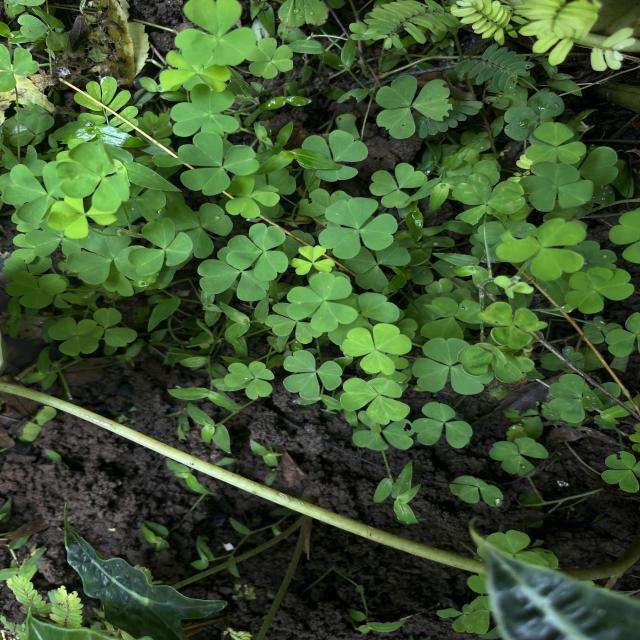Oxalis corniculata: (494, 218, 586, 282), (174, 0, 257, 68), (177, 130, 260, 197), (374, 74, 454, 140), (317, 197, 398, 260), (412, 337, 495, 396), (286, 272, 358, 333), (127, 216, 193, 276), (170, 82, 240, 138), (341, 322, 412, 376), (519, 162, 594, 213), (226, 223, 288, 281), (300, 130, 369, 182), (340, 377, 410, 425), (564, 266, 634, 314), (476, 301, 540, 350), (410, 402, 474, 449), (282, 350, 342, 400), (524, 121, 586, 166), (368, 163, 428, 209), (488, 434, 549, 478), (225, 174, 280, 220), (5, 270, 68, 310), (48, 316, 106, 357), (246, 37, 294, 80), (224, 362, 275, 401), (601, 447, 640, 497), (448, 474, 504, 508), (290, 246, 334, 276)
